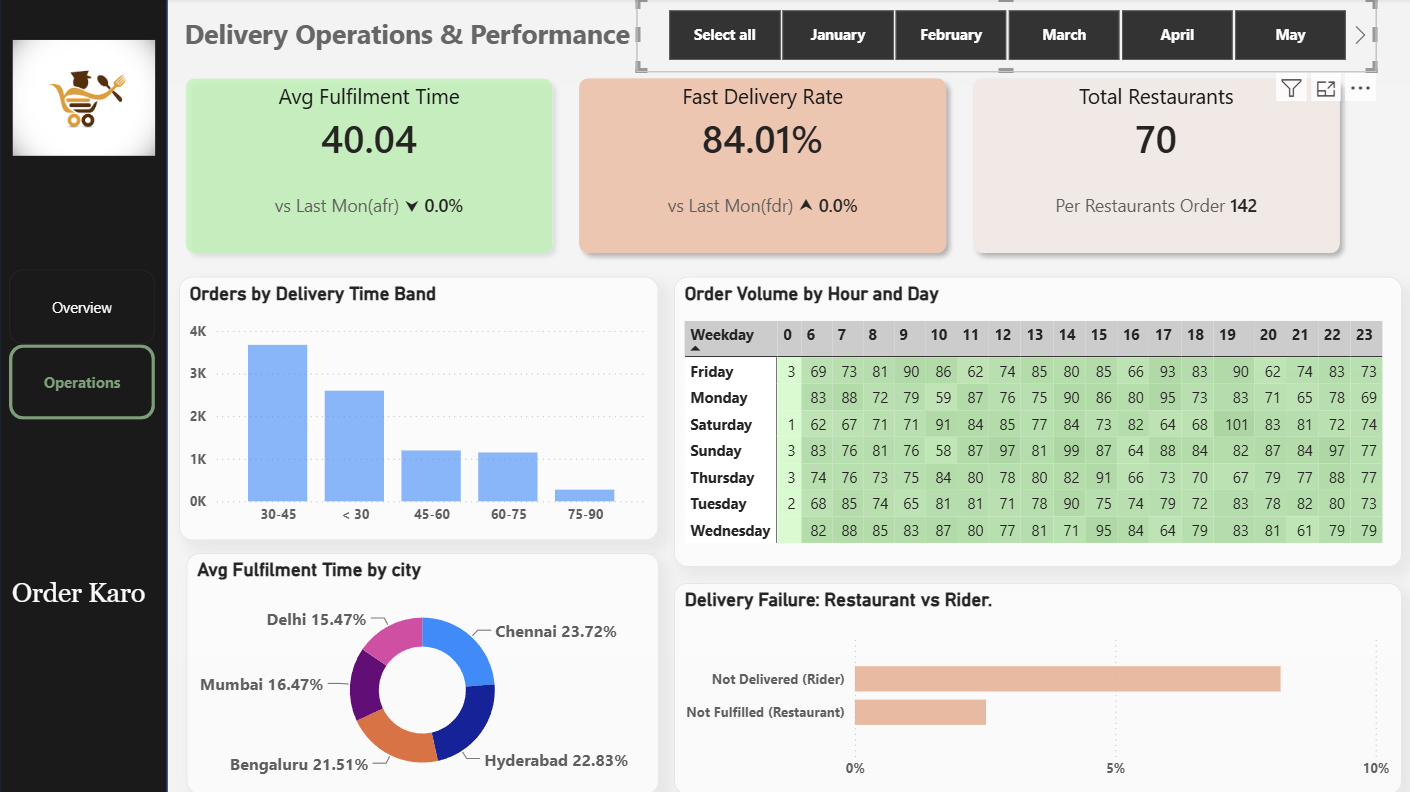

The dashboard page shown, as its layout file describes it:
{"tool":"powerbi","page":{"name":"Operations","canvas":[1280,720],"ordinal":1},"visuals":[{"type":"shape","box":[0,0,152.6,720.2],"z":0,"group":"g1"},{"type":"group","id":"g1","title":"Group 1","box":[0,0,152.6,720.2],"z":0},{"type":"image","box":[12.4,20.4,128.9,140.2],"z":1000},{"type":"cardVisual","fields":{"Data":["fooddelivery deliveries.Avg Fulfilment Time","fooddelivery deliveries.Fast Delivery Rate","fooddelivery restaurants.Total Restaurants"]},"box":[144.6,48.2,1092.6,206.2],"z":2000},{"type":"columnChart","title":"Orders by Delivery Time Band","fields":{"Category":["fooddelivery deliveries.Time Band"],"Y":["fooddelivery deliveries.Delivered Count"]},"box":[163.3,251.7,433.8,238.3],"z":3000},{"type":"donutChart","fields":{"Category":["fooddelivery restaurants.city"],"Y":["fooddelivery deliveries.Avg Fulfilment Time"]},"box":[169.6,502,427.4,218.2],"z":4000},{"type":"textbox","box":[6.7,519.5,137.9,48.2],"z":5000},{"type":"pivotTable","title":"Order Volume by Hour and Day","fields":{"Columns":["fooddelivery orders.Order Hour"],"Rows":["fooddelivery orders.DayOfWeekNumber"],"Values":["fooddelivery orders.countorderid"]},"box":[610.6,252.1,658,262.3],"z":7000},{"type":"textbox","box":[162.7,11.6,424.9,54.2],"z":7001},{"type":"slicer","fields":{"Values":["DateTable.Date.Variation.Date Hierarchy.Month"]},"box":[577.1,0,669.5,66.9],"z":7002},{"type":"barChart","title":"Delivery Failure: Restaurant vs Rider.","fields":{"Category":["Failure Stages.Stage"],"Y":["Failure Stages.Failure Rate by Stage"]},"box":[610.6,529.1,658,191.1],"z":7003},{"type":"pageNavigator","box":[9,245.4,132.3,137.9],"z":8000,"group":"g1"}]}

Visuals, with their boxes on the page's 1280x720 design canvas (x1, y1, x2, y2). These are canvas units, not pixel positions in the 1410x792 screenshot, which may show the page scaled, cropped or inside an application window:
shape: rect(0, 0, 153, 720)
"Group 1" group: rect(0, 0, 153, 720)
image: rect(12, 20, 141, 161)
cardVisual - fooddelivery deliveries.Avg Fulfilment Time x fooddelivery deliveries.Fast Delivery Rate: rect(145, 48, 1237, 254)
"Orders by Delivery Time Band" columnChart: rect(163, 252, 597, 490)
donutChart - fooddelivery restaurants.city x fooddelivery deliveries.Avg Fulfilment Time: rect(170, 502, 597, 720)
textbox: rect(7, 520, 145, 568)
"Order Volume by Hour and Day" pivotTable: rect(611, 252, 1269, 514)
textbox: rect(163, 12, 588, 66)
slicer - DateTable.Date.Variation.Date Hierarchy.Month: rect(577, 0, 1247, 67)
"Delivery Failure: Restaurant vs Rider." barChart: rect(611, 529, 1269, 720)
pageNavigator: rect(9, 245, 141, 383)
